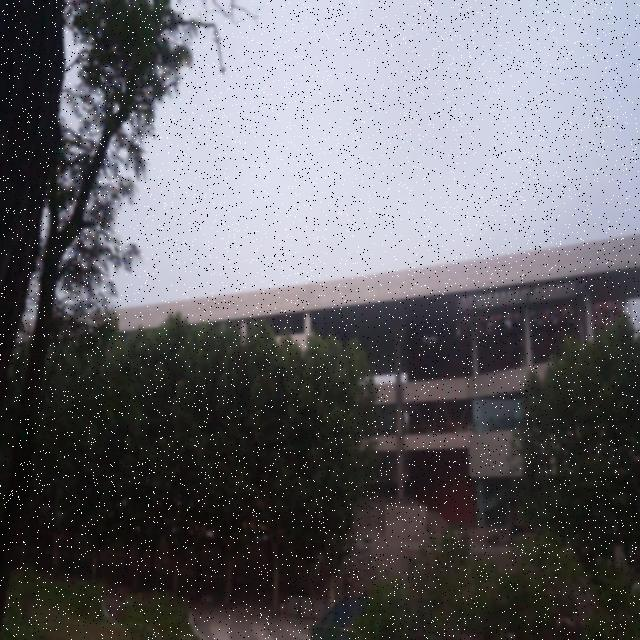UAV: (423, 336, 438, 347)
